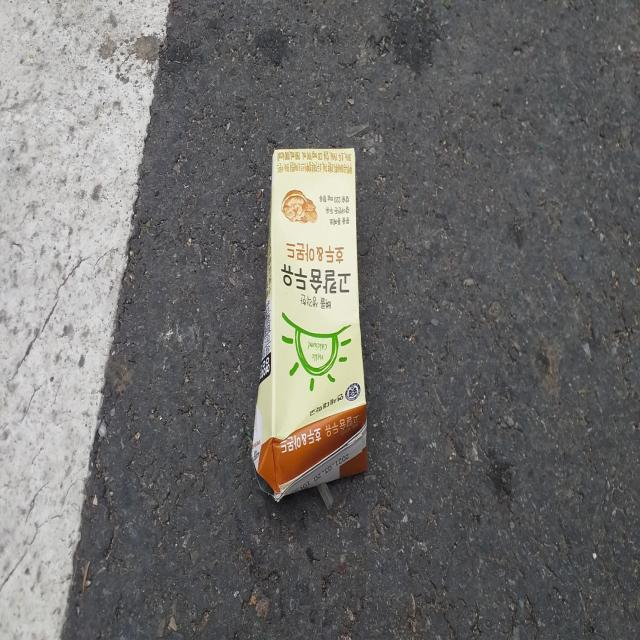paperpack: (252, 148, 367, 501)
